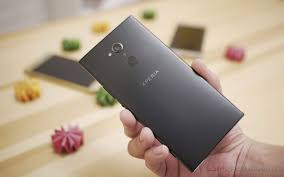sony: (79, 12, 247, 172)
